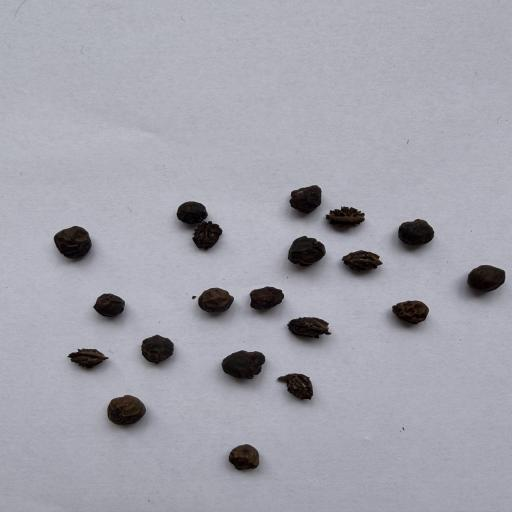Black_pepper: (42, 218, 96, 266), (276, 227, 329, 274), (216, 345, 276, 381), (382, 289, 432, 330), (84, 286, 134, 322), (396, 213, 438, 252), (134, 332, 179, 365), (286, 176, 321, 218), (222, 442, 269, 472), (468, 261, 506, 297), (107, 392, 146, 426), (199, 284, 236, 318), (247, 285, 287, 312), (173, 197, 209, 225)
papaya_seed: (337, 243, 385, 280), (320, 201, 373, 234), (278, 367, 320, 405), (67, 341, 114, 372), (286, 312, 335, 340), (188, 221, 225, 251)
